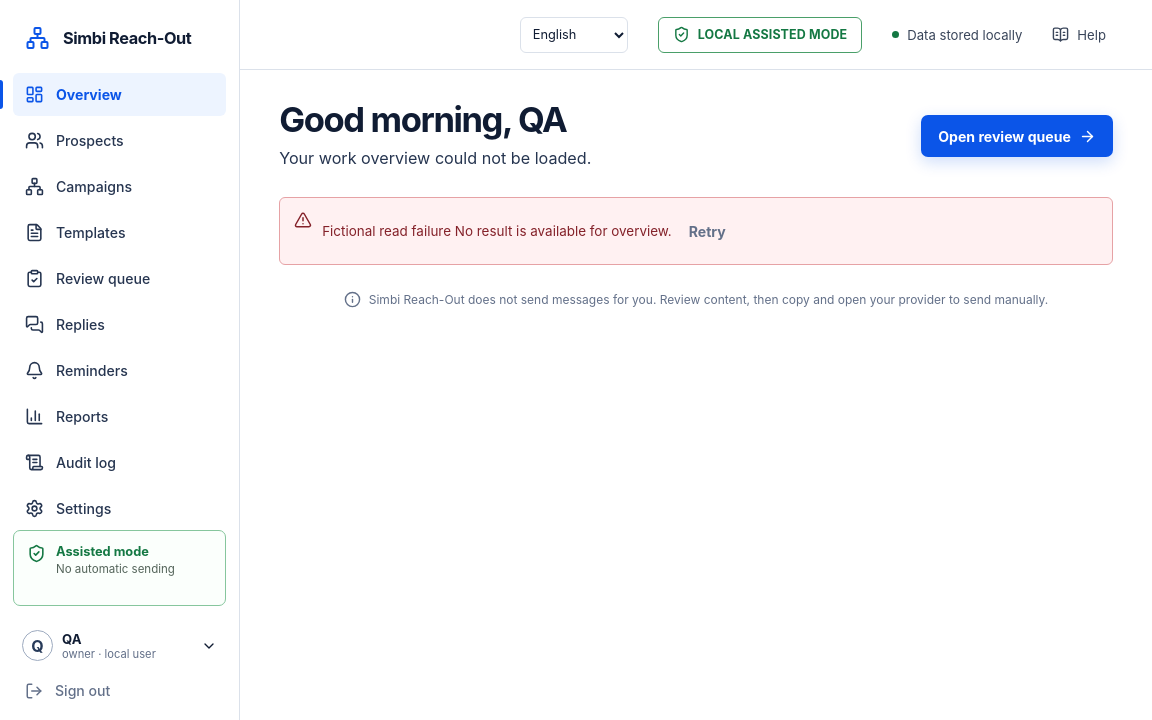
truthful loading states on every operational route › / distinguishes failure from emptiness and can retry
Check: the text "Fictional read failure" is shown, box [322,224,451,240]
Check: the text "Your queue is clear" is not shown
Click the button "Retry" at (707, 231), box [672,210,743,252]
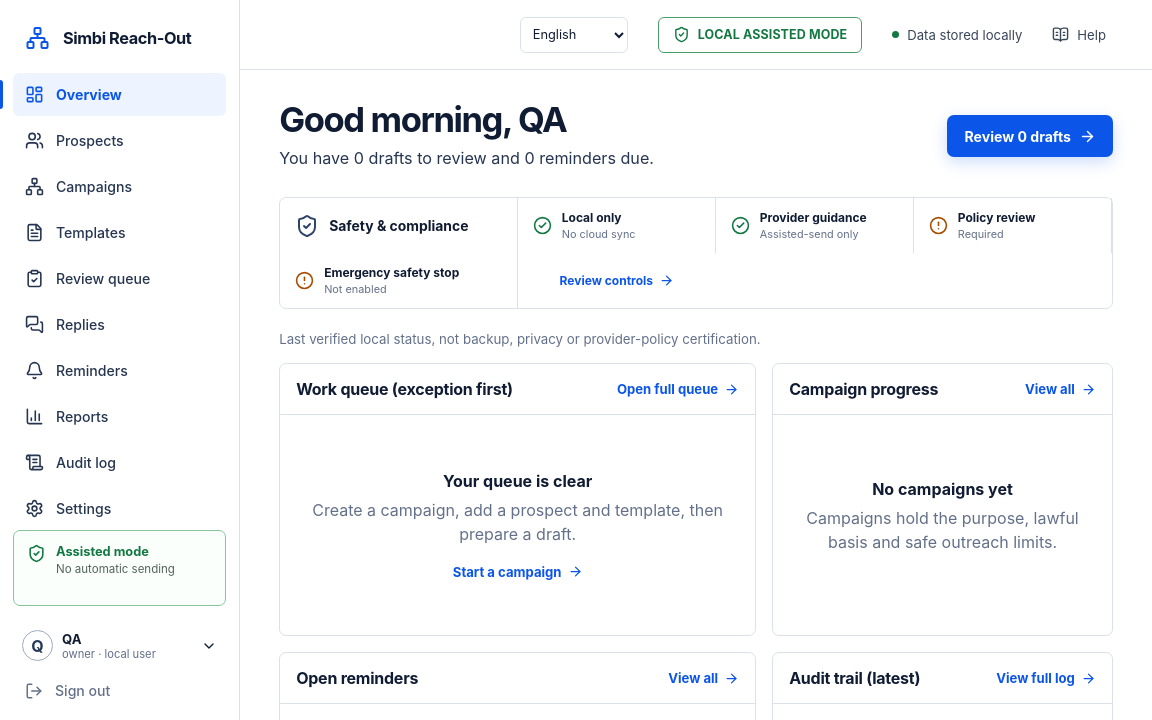
Check: the heading "Your queue is clear" is shown, box [443,471,592,491]
Check: the text "Fictional read failure" is gone
